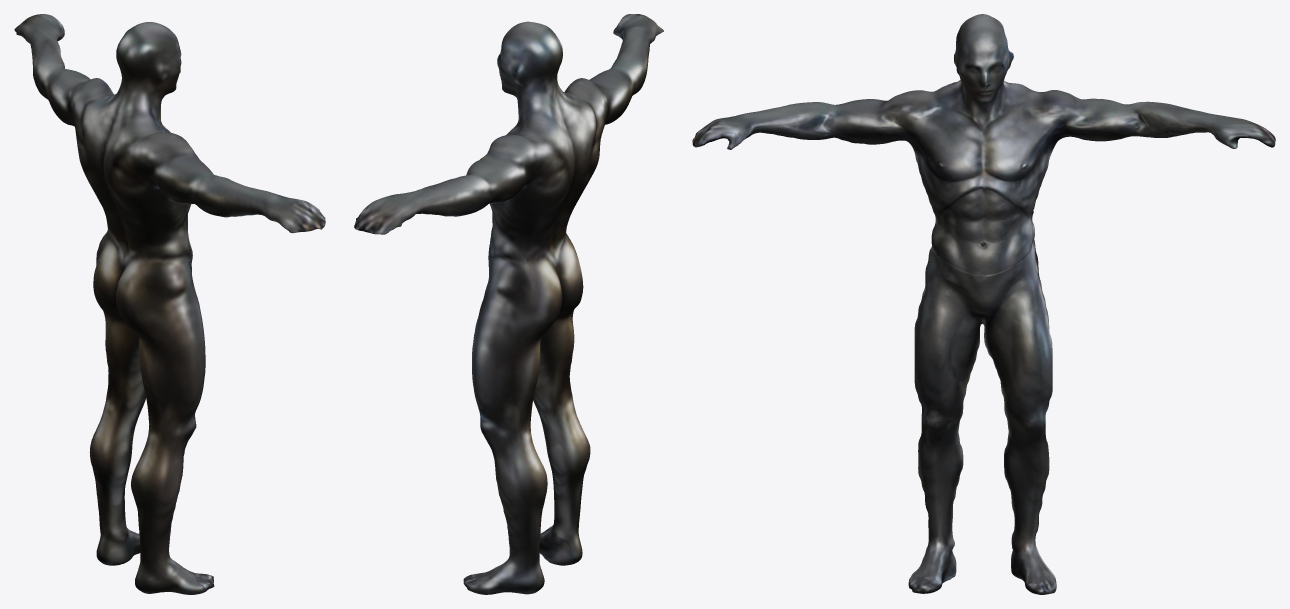
Rendered from bodymap-figure.glb.
3 renders of one model, left to right at view 1: azimuth 30°, elevation 25°; view 2: azimuth 150°, elevation 25°; view 3: azimuth 270°, elevation 25°, orthographic. The views are drawn at different scales.
Parts seen in each view (by area): view 1: tripo_node_37e62fab-2bad-41e9-a562-77cc1ad51772; view 2: tripo_node_37e62fab-2bad-41e9-a562-77cc1ad51772; view 3: tripo_node_37e62fab-2bad-41e9-a562-77cc1ad51772.
Boxes of the visible parts, left/top/right/bottom form: tripo_node_37e62fab-2bad-41e9-a562-77cc1ad51772: left=14, top=14, right=325, bottom=594; tripo_node_37e62fab-2bad-41e9-a562-77cc1ad51772: left=354, top=14, right=663, bottom=594; tripo_node_37e62fab-2bad-41e9-a562-77cc1ad51772: left=692, top=14, right=1275, bottom=594.
Size of the model in its own units: 0.1347 by 0.7774 by 0.7311.
Materials: 1 (1 with a texture image).
